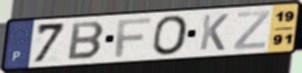7: (31, 22, 68, 65)
B: (66, 20, 107, 61)
F: (114, 16, 153, 59)
K: (197, 13, 231, 52)
O: (152, 13, 191, 57)
Z: (231, 9, 272, 51)
